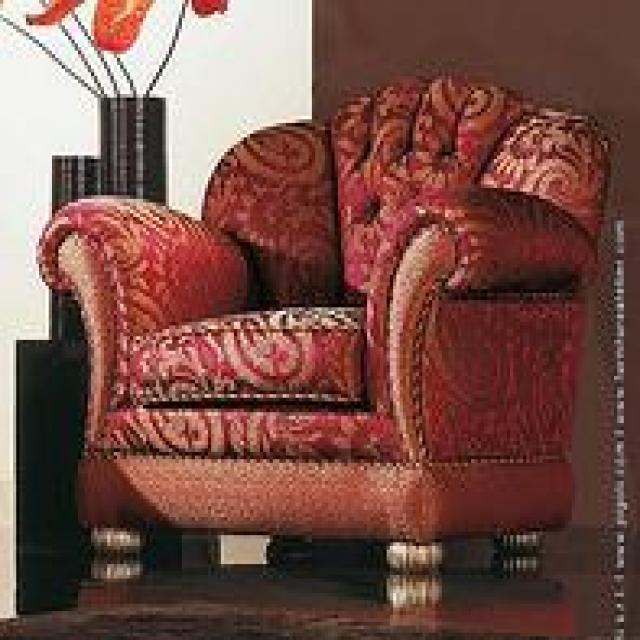sofa: (30, 71, 615, 575)
